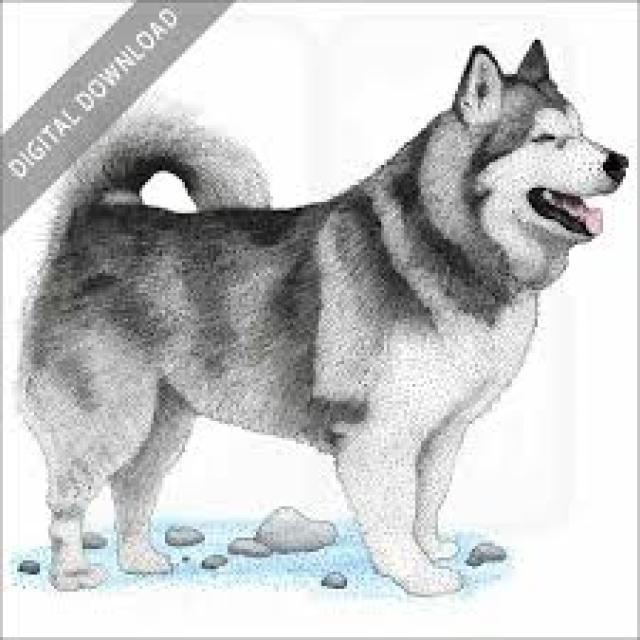ALASKAN_MALAMUTE: (22, 21, 632, 608)
